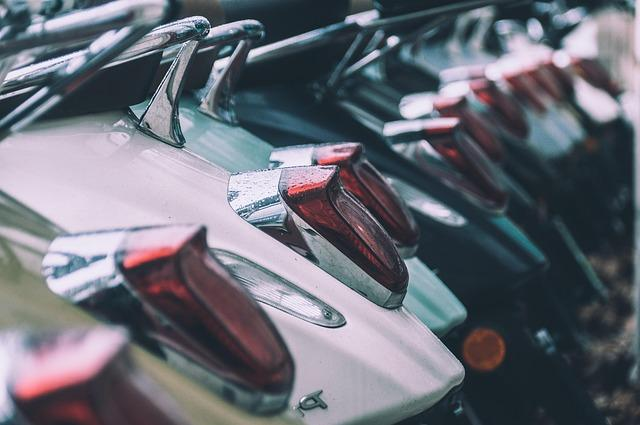Non_Gorille: (1, 0, 640, 411)
